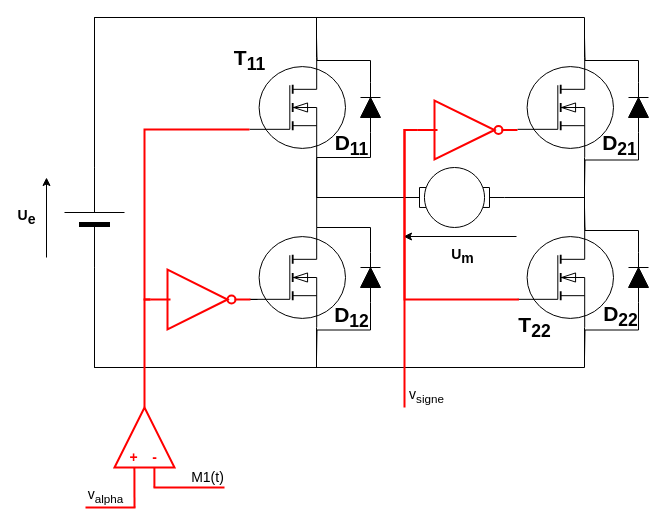
This 667x527 diagram has some shape labels left out. Each missing label, with the centre of its shape:
"T 12" goes at point 297,277.
"T 21" goes at point 565,107.
